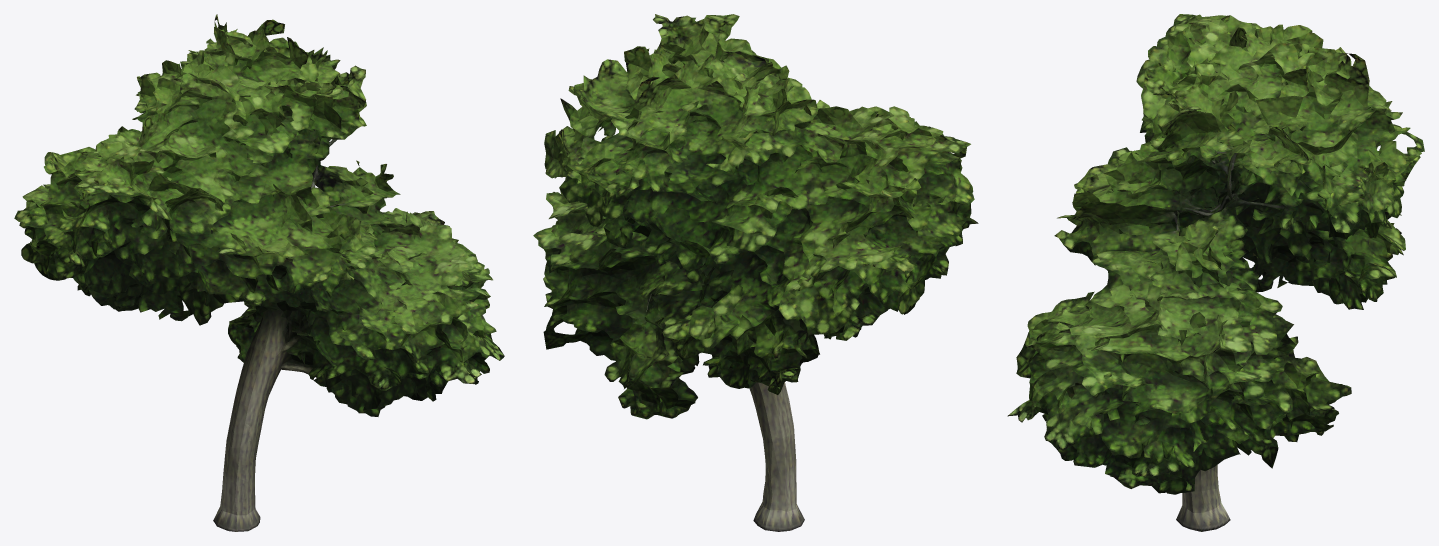
Rendered from tree_street.glb.
3 views of the same model, side by side, from view 1: azimuth 30°, elevation 25°; view 2: azimuth 150°, elevation 25°; view 3: azimuth 270°, elevation 25° (orthographic). The views are drawn at different scales.
Parts seen in each view (by area): view 1: world; view 2: world; view 3: world.
Part boxes in pixels (<box>): world: <box>14,14,504,531</box>; world: <box>533,14,978,531</box>; world: <box>1007,14,1424,531</box>.
Size of the model in its own units: 0.9115 by 0.9925 by 0.7562.
Materials: 1 (1 with a texture image).
